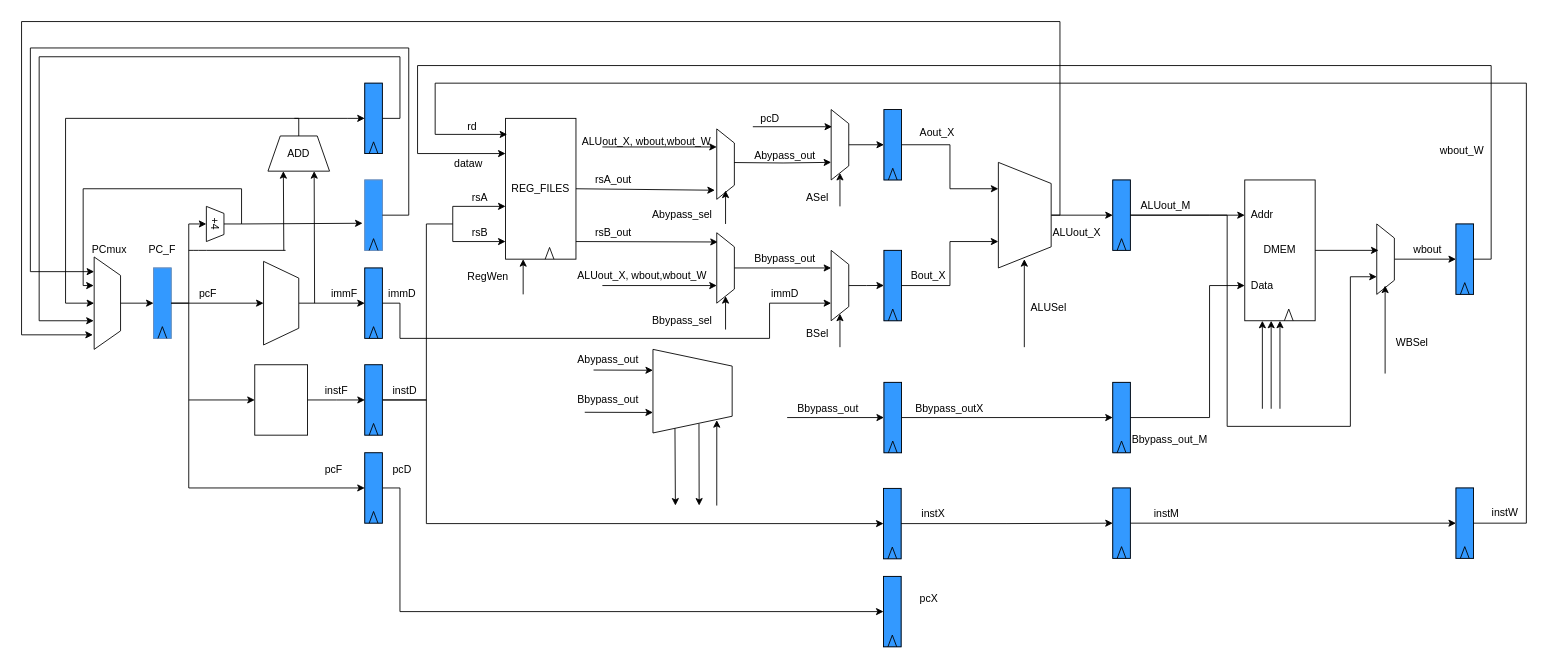
Image size: 1550x664. Some labels were removed from this diagram. Here are the shapes that lost their labels. From the top down, the centre of each, then its label:
At [281,302]: "IMM_GEN".
At [281,399]: "IMEM".
